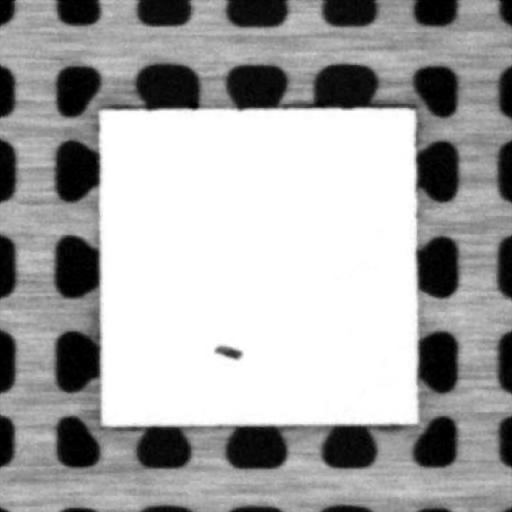DIE_INK: (212, 343, 244, 359)
